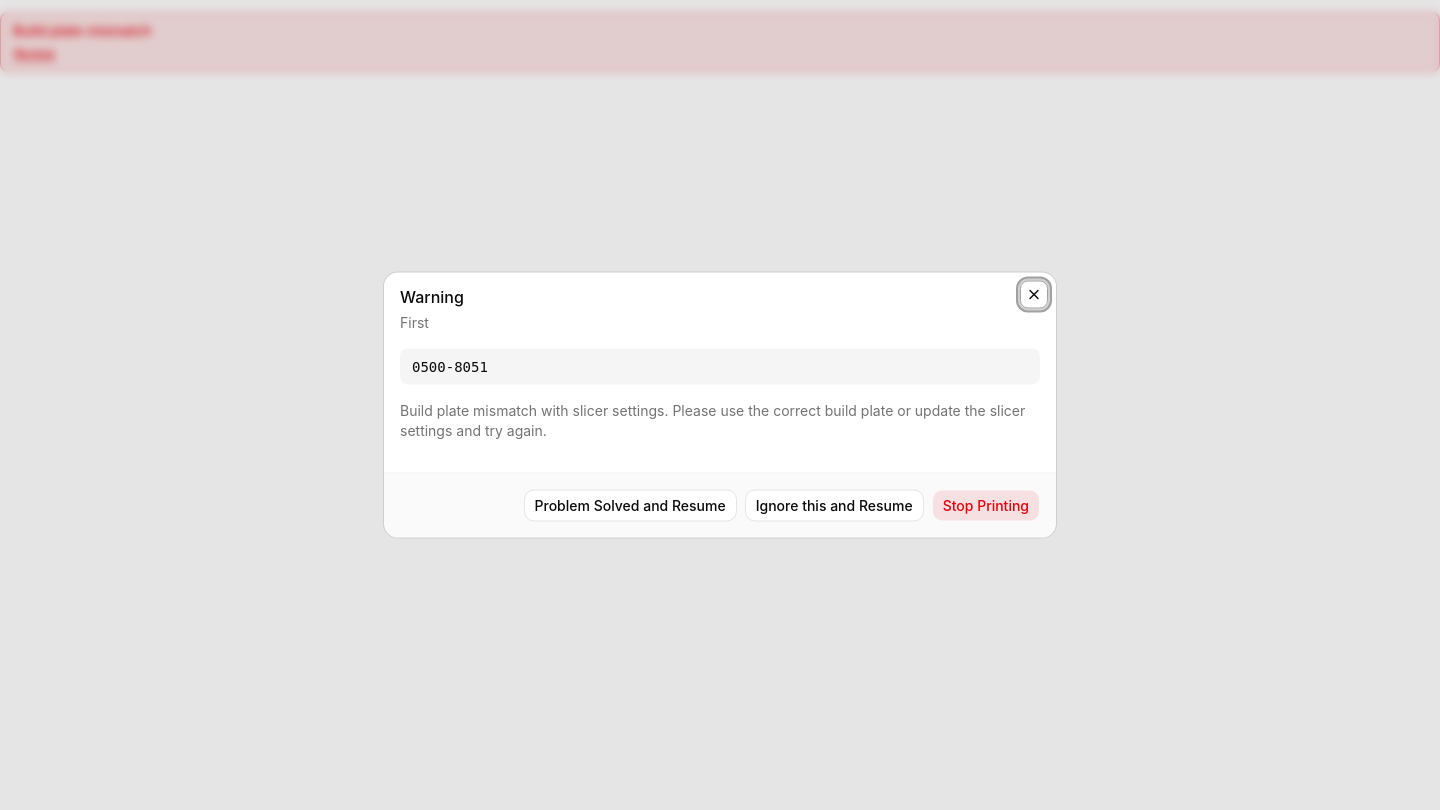
PrinterMismatchCoordinator › keeps the dialog open and restores controls after a typed transport failure
Click the button "Problem Solved and Resume" at (630, 506), box top-left (524, 490), bottom-right (737, 522)
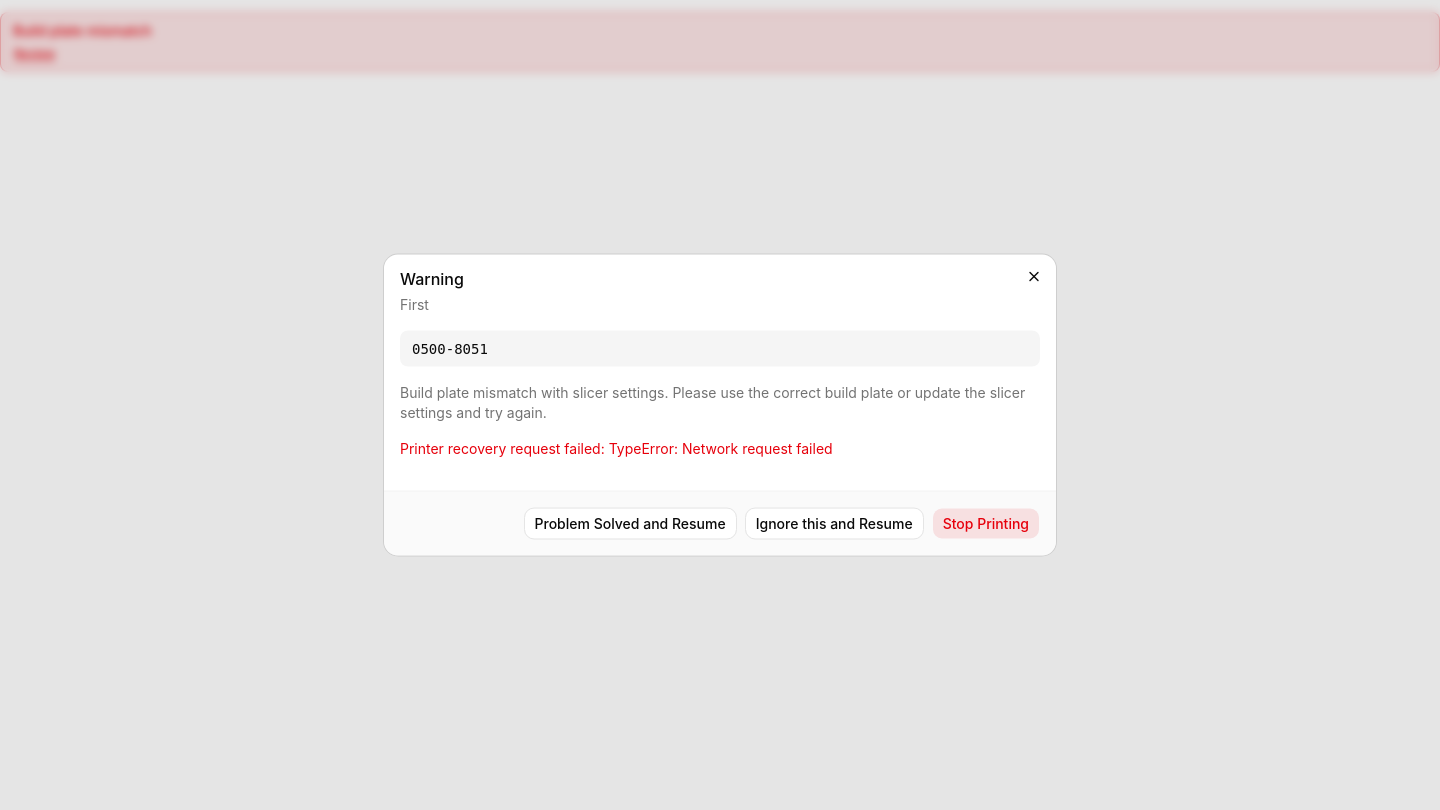
Expected: the button named "Close mismatch dialog" is enabled, top-left (1020, 262), bottom-right (1048, 290)
Expected: the text "Printer recovery request failed: TypeError: Network request failed" is shown, top-left (400, 440), bottom-right (833, 456)
